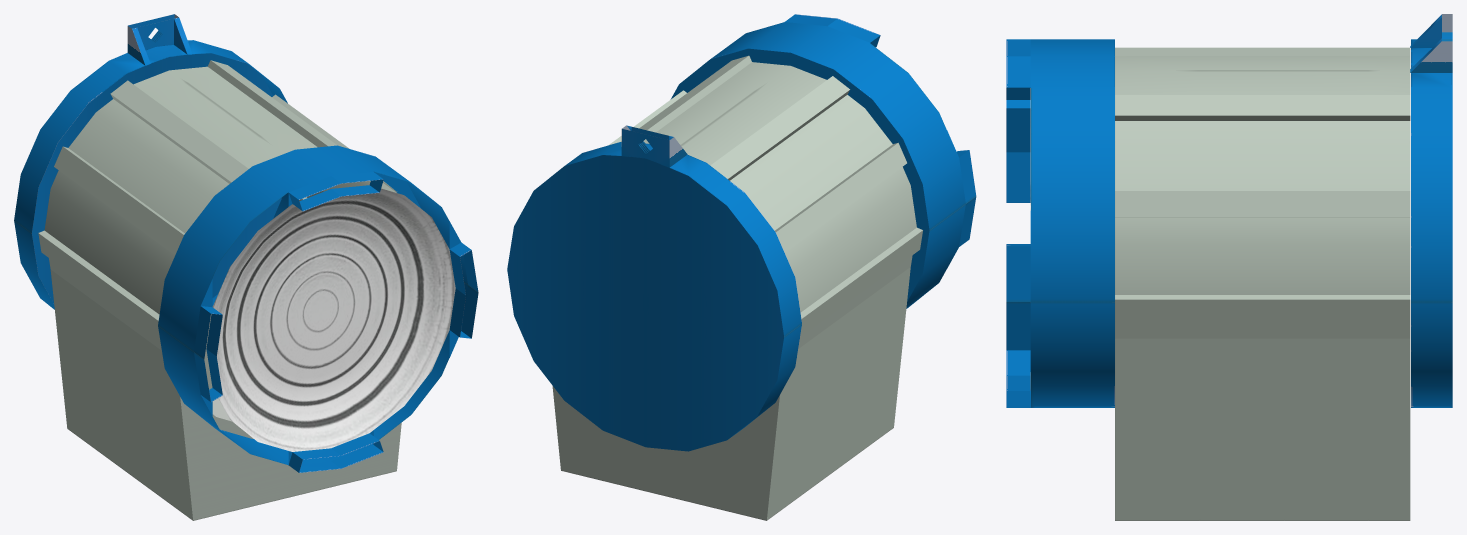
The model's file is arrilight.FBX.
3 renders of one model, left to right at view 1: azimuth 30°, elevation 25°; view 2: azimuth 150°, elevation 25°; view 3: azimuth 270°, elevation 25°, orthographic. The views are drawn at different scales.
Parts seen in each view (by area): view 1: arrilight; view 2: arrilight; view 3: arrilight.
Part boxes in pixels (x1=…): arrilight: x1=14, y1=14, x2=478, y2=520; arrilight: x1=507, y1=14, x2=976, y2=520; arrilight: x1=1006, y1=14, x2=1452, y2=520.
Bounding box in the file's own units: 44 × 56.89 × 53.
Materials: 1 (1 with a texture image).
